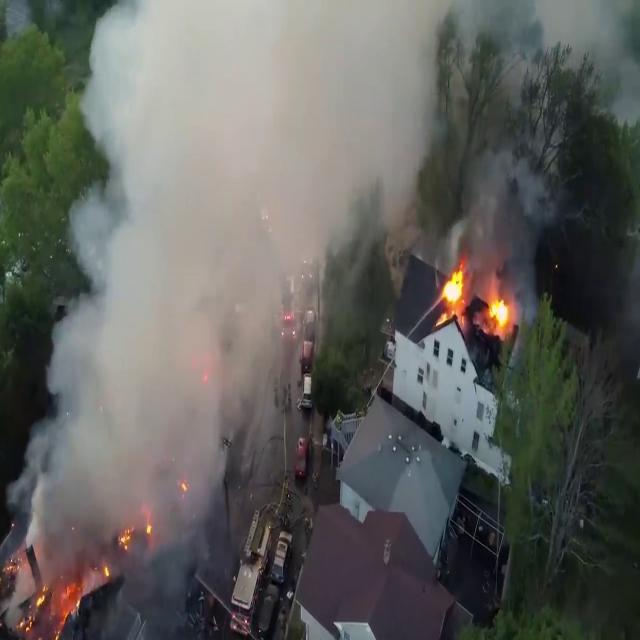Fire: (433, 258, 519, 336), (18, 569, 85, 638), (433, 260, 469, 320), (483, 286, 517, 339)
Smoke: (8, 1, 592, 590)
